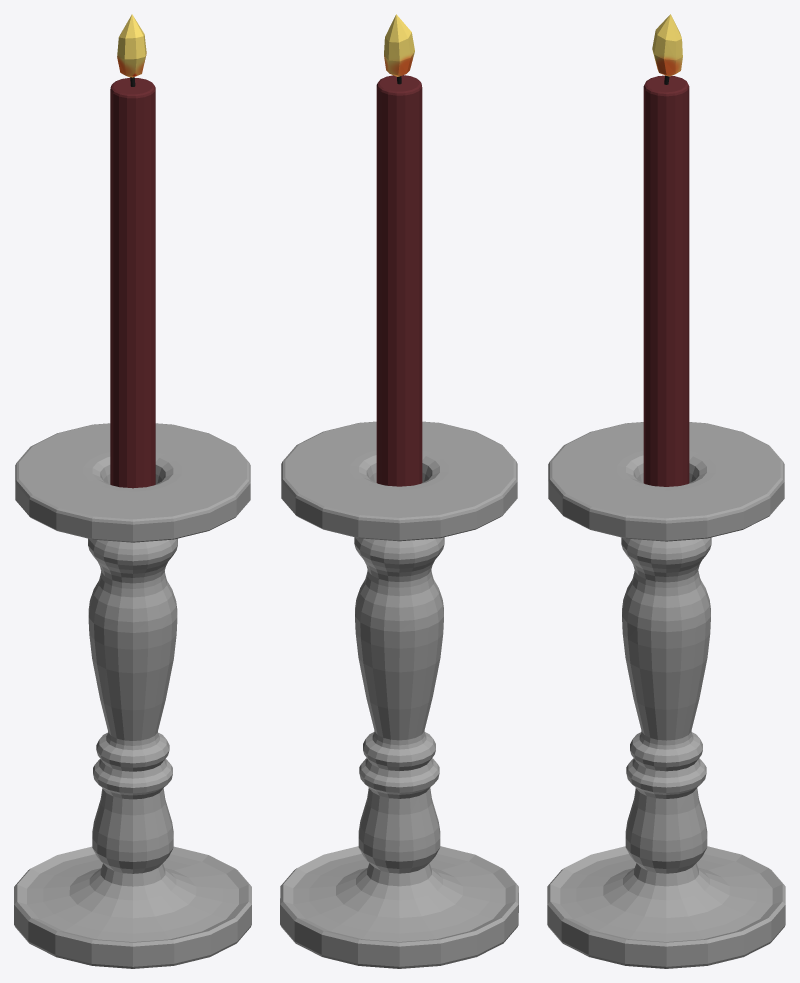
File: candle.obj
3 renders of one model, left to right at view 1: azimuth 30°, elevation 25°; view 2: azimuth 150°, elevation 25°; view 3: azimuth 270°, elevation 25°, orthographic.
Parts seen in each view (by area): view 1: candleHolder_Plane, Cylinder_Cylinder.001, 4; view 2: candleHolder_Plane, Cylinder_Cylinder.001, 4; view 3: candleHolder_Plane, Cylinder_Cylinder.001, 4.
Part boxes in pixels (<box>): candleHolder_Plane: <box>14,423,251,968</box>; Cylinder_Cylinder.001: <box>110,78,155,488</box>; 4: <box>117,14,146,77</box>; candleHolder_Plane: <box>280,421,518,968</box>; Cylinder_Cylinder.001: <box>376,75,422,486</box>; 4: <box>384,14,414,76</box>; candleHolder_Plane: <box>547,422,785,968</box>; Cylinder_Cylinder.001: <box>643,75,689,486</box>; 4: <box>652,14,682,76</box>.
Size of the model in its own units: 10.57 by 43.57 by 10.41.
4 materials, 1 textured.
